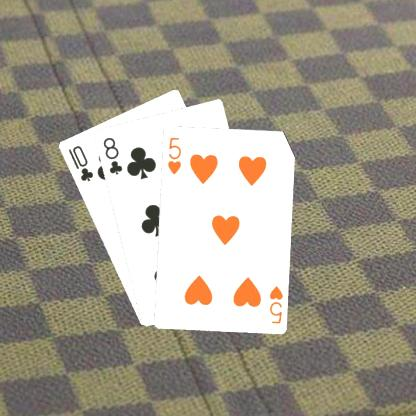10C: (66, 142, 94, 183)
5H: (266, 283, 284, 325), (165, 134, 182, 175)
8C: (100, 134, 124, 176)
